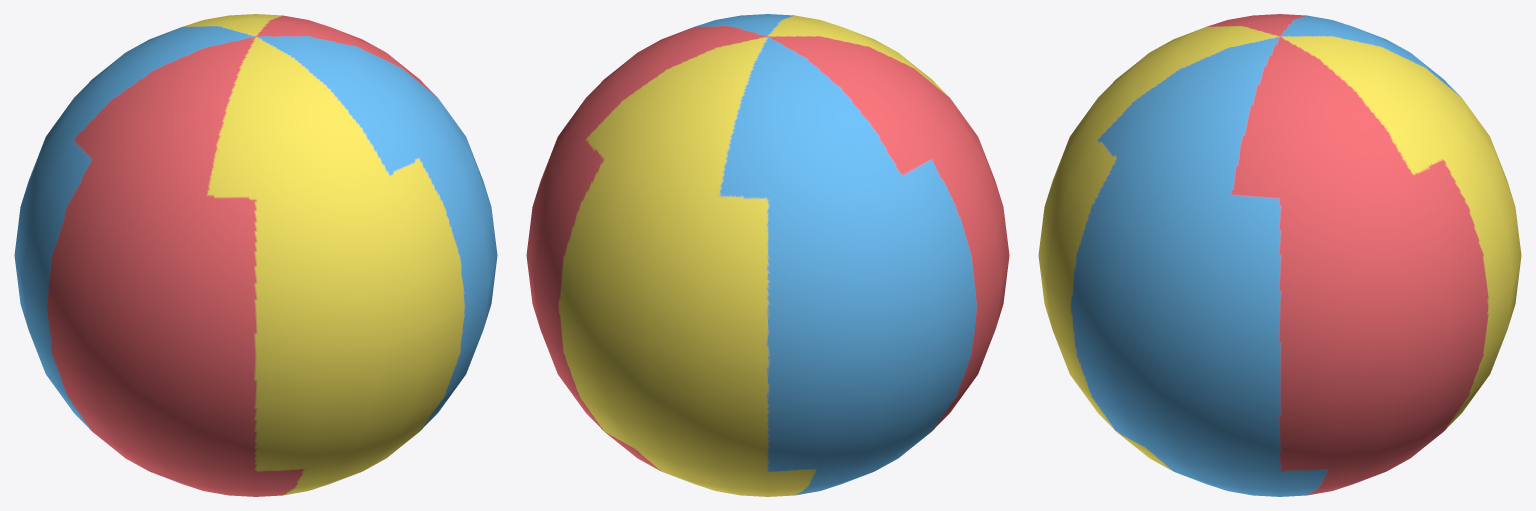
Rendered from bola_mainan.fbx.
3 views of the same model, side by side, from view 1: azimuth 30°, elevation 25°; view 2: azimuth 150°, elevation 25°; view 3: azimuth 270°, elevation 25° (orthographic).
Visible parts, largest first — view 1: bola_mainan; view 2: bola_mainan; view 3: bola_mainan.
Part boxes in pixels (bbox=[...]): bola_mainan: bbox=[14, 14, 497, 496]; bola_mainan: bbox=[526, 14, 1009, 496]; bola_mainan: bbox=[1038, 14, 1521, 496].
Size of the model in its own units: 24 by 24 by 24.
Materials: 1 (1 with a texture image).
